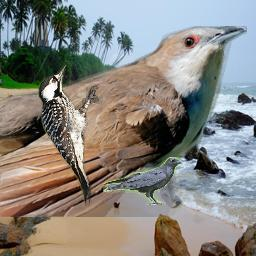Crow: (103, 157, 183, 205)
Cuckoo: (0, 26, 247, 217)
Woodpecker: (38, 65, 103, 206)
